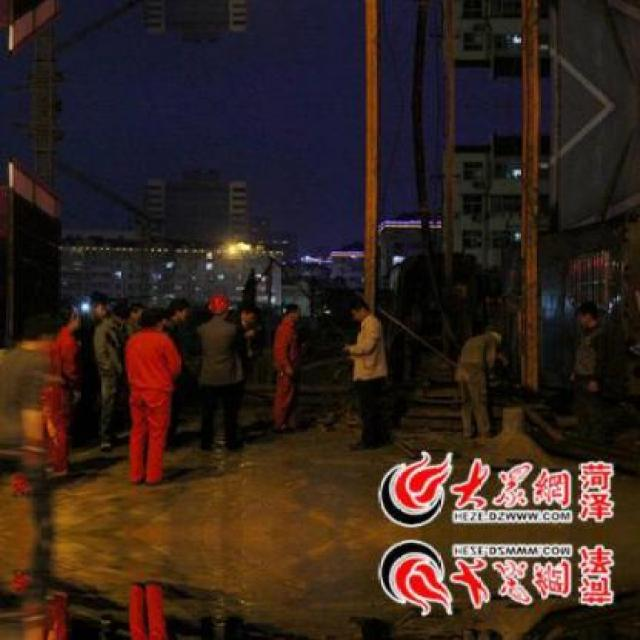helmet: (205, 288, 232, 318)
no_helmet: (22, 310, 58, 352), (572, 296, 602, 329), (132, 302, 162, 330), (164, 294, 190, 324), (345, 294, 372, 322), (58, 298, 80, 332), (88, 292, 108, 322), (108, 299, 129, 327), (278, 298, 300, 324), (237, 301, 258, 327)
